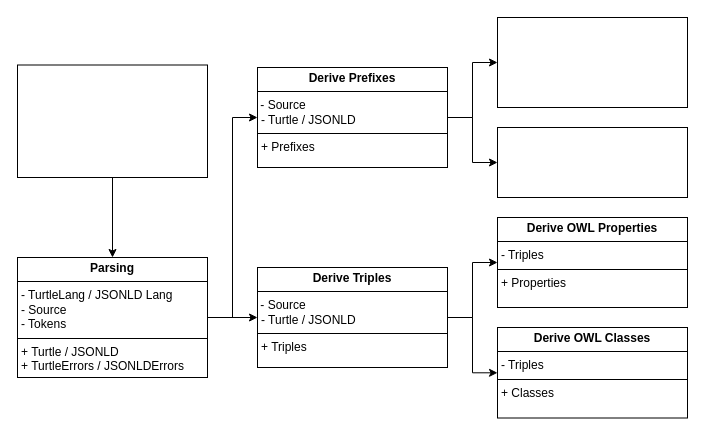
This 705x436 diagram has some shape labels left out. Here are the shapes that lost their labels. From the top down, the centre of each, then its label:
At (x=592, y=62): "Derive Prefix Links - Prefixes + Linked Documents".
At (x=112, y=121): "Tokenize - TurtleLang / JsonLDLang - Source + Tokens + TokenErrors".
At (x=592, y=162): "Load Lov Documents - Prefixes".
